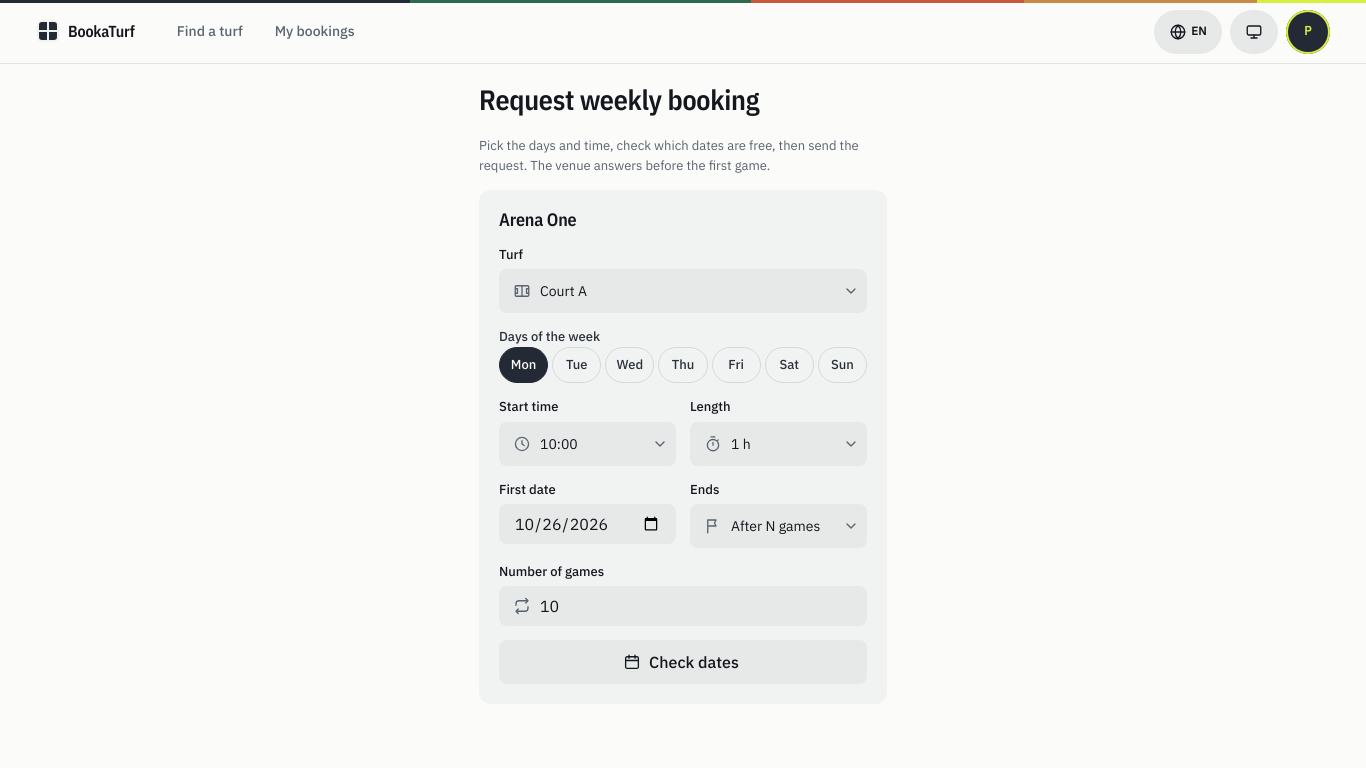
Test: request weekly booking › check dates then send request posts the pattern and shows respondBy
Expected: the heading "Request weekly booking" is shown, [479,81,759,118]
Expected: the dropdown labelled "Start time" shows "10:00", [499,422,676,466]
Click the button "Check dates": (683, 662) [499,640,867,684]
(page scrolled)
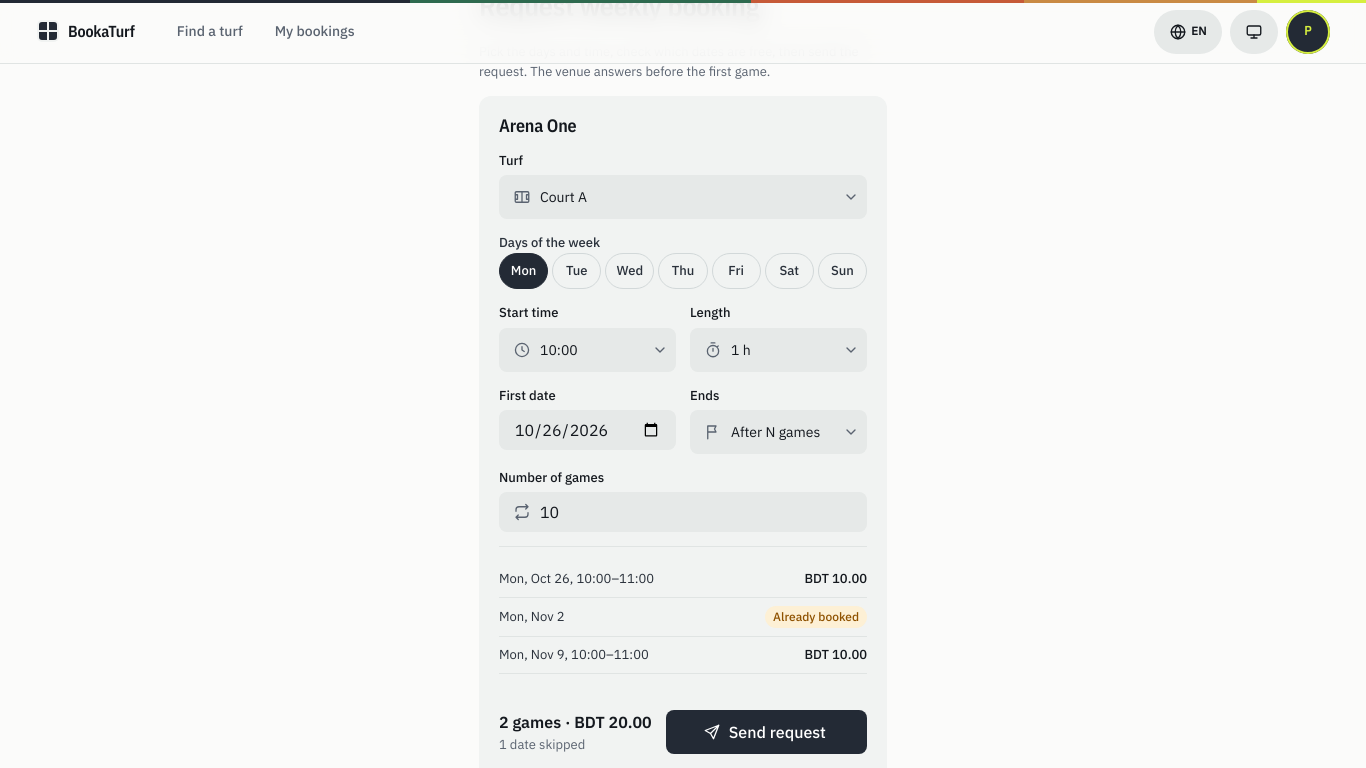
Expected: the number of list items is 3, [499,561,867,598]; [499,598,867,637]; [499,637,867,674]
Click the button "Send request": (766, 732) [666,710,867,754]
(page scrolled)
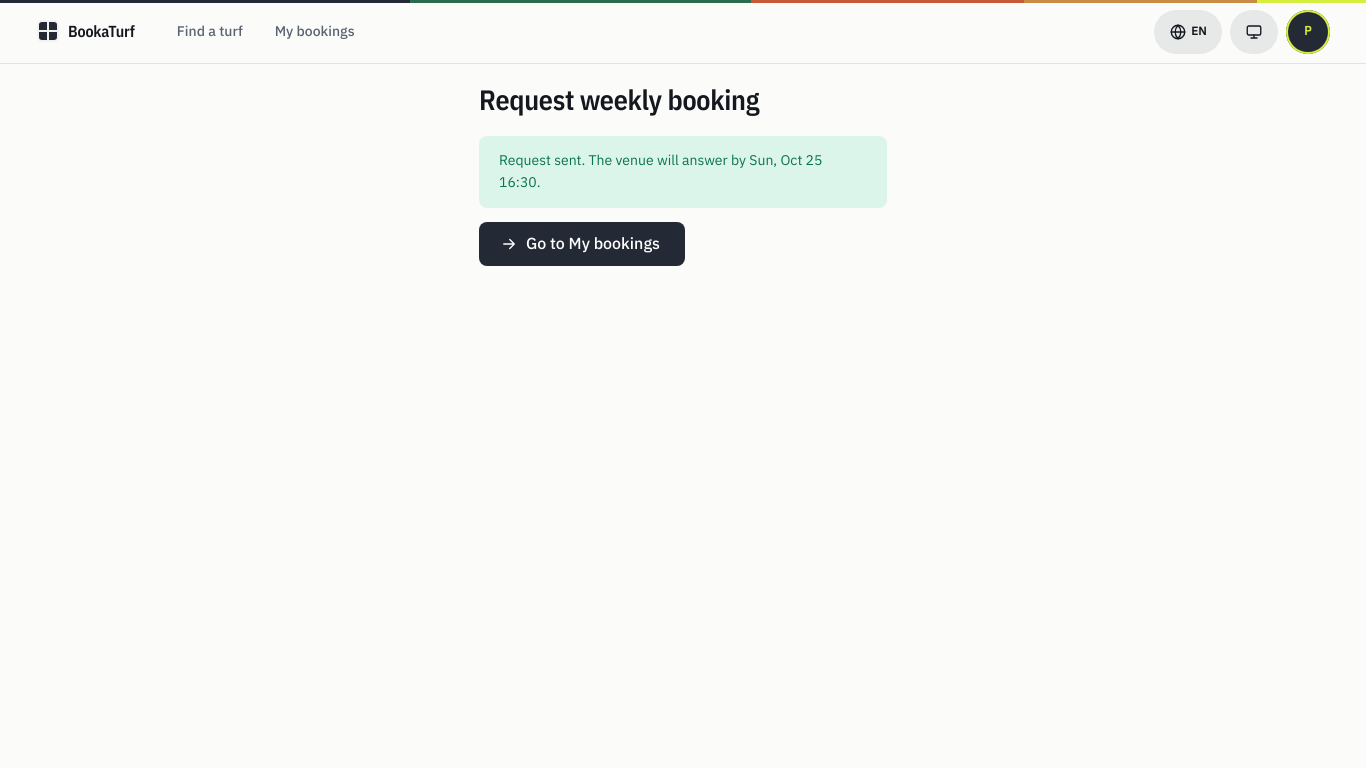
Expected: the text "Request sent. The venue will answer by Sun, Oct 25 16:30." is shown, [479,136,887,208]
